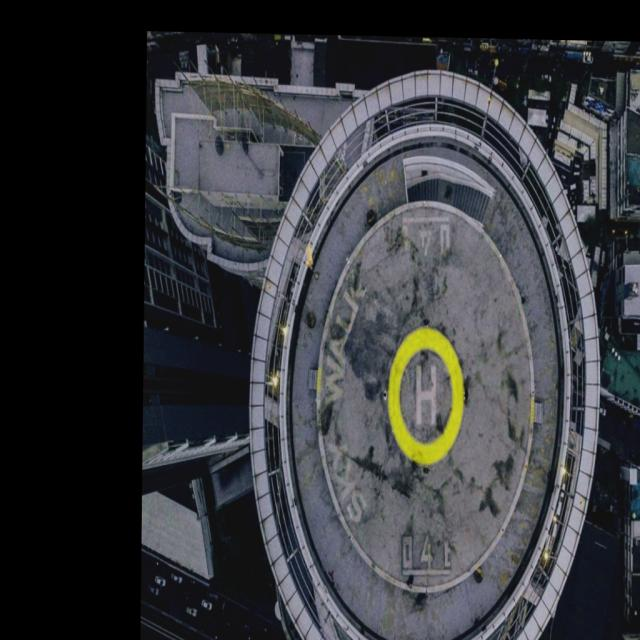helipad: (383, 322, 466, 468)
